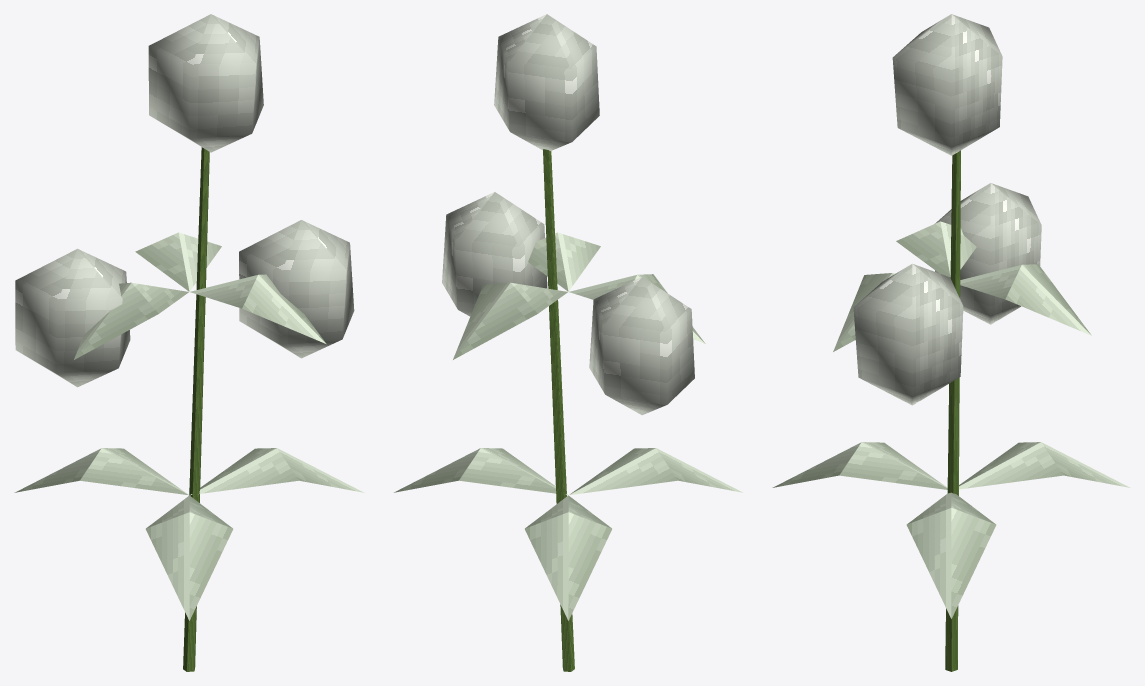
The model's file is tall_3_lod.obj.
The picture shows the model from 3 angles, left to right: view 1: azimuth 30°, elevation 25°; view 2: azimuth 150°, elevation 25°; view 3: azimuth 270°, elevation 25°; orthographic projection. The views are drawn at different scales.
Parts seen in each view (by area): view 1: plant; view 2: plant; view 3: plant.
Part boxes in pixels (left/top/right/bottom): plant: left=14, top=14, right=364, bottom=671; plant: left=394, top=14, right=742, bottom=671; plant: left=772, top=14, right=1130, bottom=671.
Size of the model in its own units: 0.5886 by 1.17 by 0.5729.
